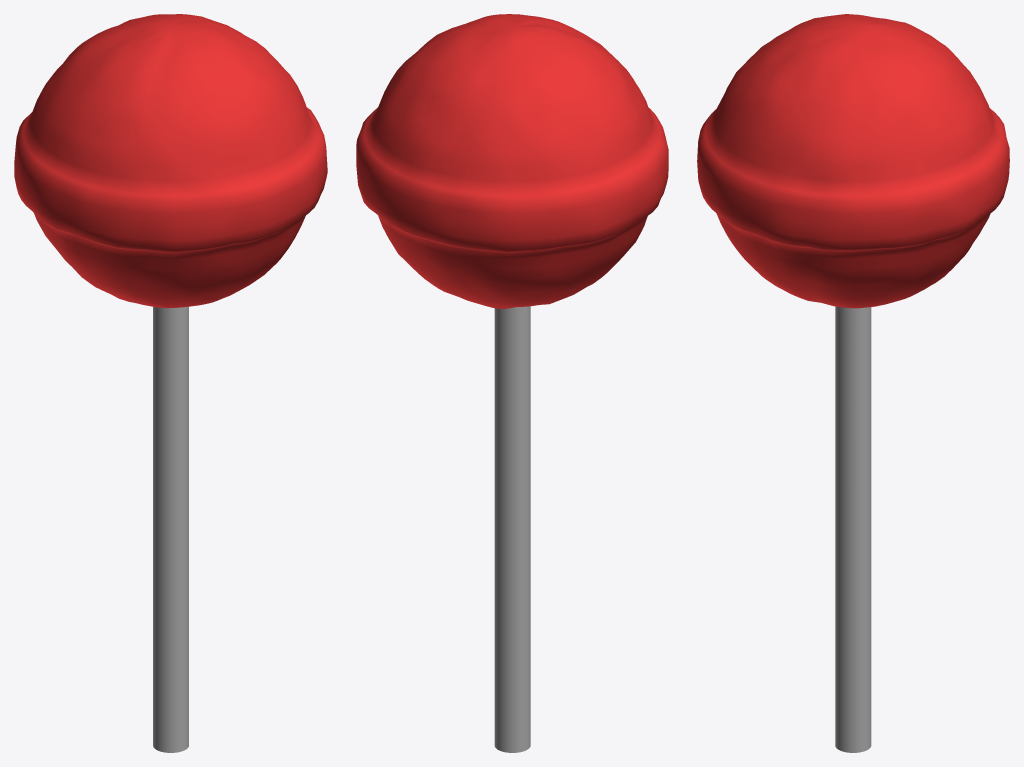
Rendered from lolipop-red.glb.
3 renders of one model, left to right at view 1: azimuth 30°, elevation 25°; view 2: azimuth 150°, elevation 25°; view 3: azimuth 270°, elevation 25°, orthographic.
Visible parts, largest first — view 1: Sphere, Sphere.001; view 2: Sphere, Sphere.001; view 3: Sphere, Sphere.001.
Part boxes in pixels (bbox=[...]): Sphere: bbox=[14, 14, 327, 308]; Sphere.001: bbox=[153, 306, 188, 752]; Sphere: bbox=[356, 14, 668, 308]; Sphere.001: bbox=[494, 306, 530, 752]; Sphere: bbox=[697, 14, 1009, 308]; Sphere.001: bbox=[835, 306, 871, 752].
Bounding box in the file's own units: 217 × 549 × 216.
